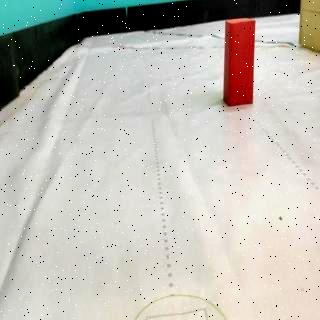redbox: (223, 17, 256, 106)
